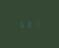eight: (26, 20, 32, 27)
one: (33, 19, 39, 27)
six: (18, 20, 24, 28)
